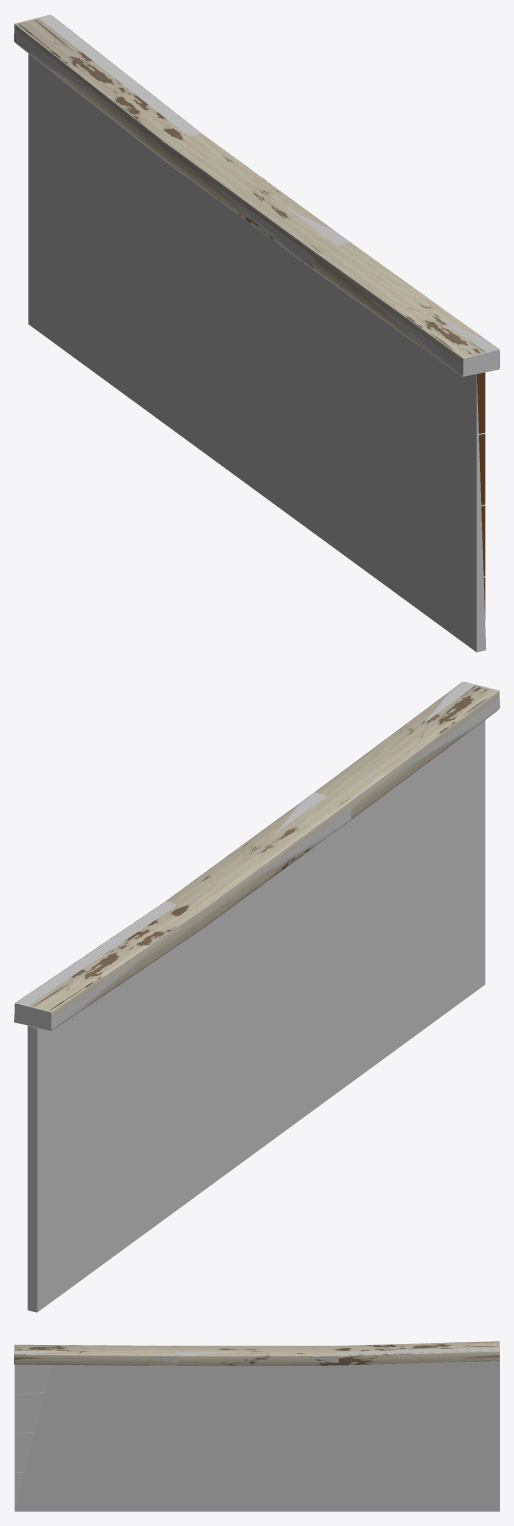
Rendered from SM_Hangar01P_1.fbx.
3 renders of one model, top to bottom at view 1: azimuth 30°, elevation 25°; view 2: azimuth 150°, elevation 25°; view 3: azimuth 270°, elevation 25°, orthographic. The views are drawn at different scales.
Visible parts, largest first — view 1: SM_Hangar01P_1_ConvexHulls, SM_Hangar01P_1; view 2: SM_Hangar01P_1_ConvexHulls, SM_Hangar01P_1; view 3: SM_Hangar01P_1_ConvexHulls, SM_Hangar01P_1.
Part boxes in pixels (x1,y1,x2,y2): SM_Hangar01P_1_ConvexHulls: (14,14,499,652); SM_Hangar01P_1: (15,15,499,618); SM_Hangar01P_1_ConvexHulls: (14,681,499,1312); SM_Hangar01P_1: (14,682,498,1030); SM_Hangar01P_1_ConvexHulls: (14,1341,499,1511); SM_Hangar01P_1: (14,1341,499,1506).
Size of the model in its own units: 20.29 by 416 by 155.
4 materials, 3 textured.
